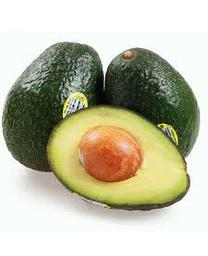avocado: (46, 104, 191, 211), (2, 41, 106, 174), (105, 47, 200, 170)
